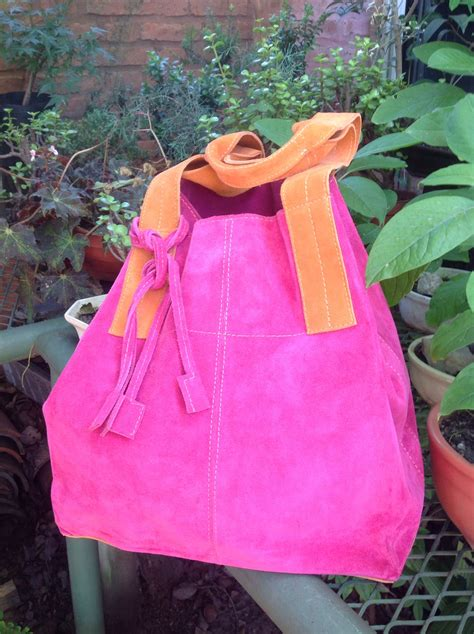gamuza: (43, 111, 429, 583)
